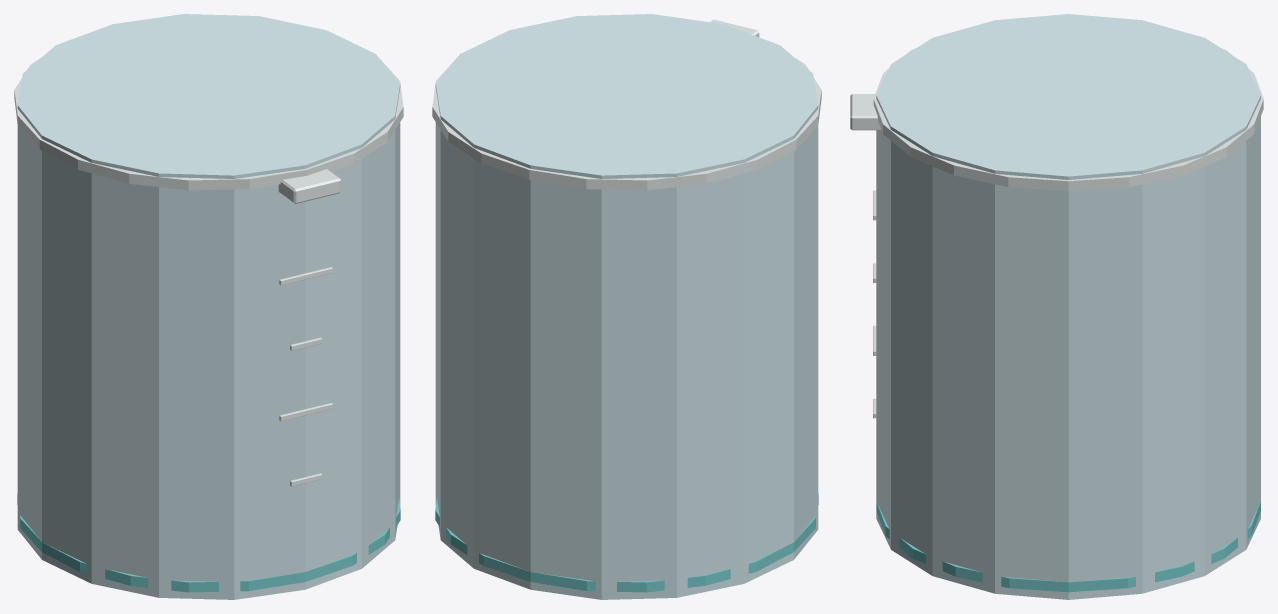
File: chem_large_beaker.glb
3 views of the same model, side by side, from view 1: azimuth 30°, elevation 25°; view 2: azimuth 150°, elevation 25°; view 3: azimuth 270°, elevation 25° (orthographic).
Visible parts, largest first — view 1: Glass vessel.001, Open lip.001, Foot.001, Pouring lip.001; view 2: Glass vessel.001, Open lip.001, Foot.001; view 3: Glass vessel.001, Open lip.001, Foot.001, Pouring lip.001.
Boxes of the visible parts, x1=… form: Glass vessel.001: x1=17, y1=14, x2=400, y2=599; Open lip.001: x1=14, y1=57, x2=403, y2=190; Foot.001: x1=17, y1=493, x2=400, y2=592; Pouring lip.001: x1=278, y1=169, x2=341, y2=203; Glass vessel.001: x1=435, y1=14, x2=818, y2=599; Open lip.001: x1=432, y1=57, x2=821, y2=190; Foot.001: x1=435, y1=493, x2=818, y2=592; Glass vessel.001: x1=876, y1=14, x2=1260, y2=599; Open lip.001: x1=873, y1=48, x2=1263, y2=191; Foot.001: x1=876, y1=501, x2=1260, y2=592; Pouring lip.001: x1=850, y1=94, x2=881, y2=130.
Size of the model in its own units: 0.142 by 0.17 by 0.1505.
